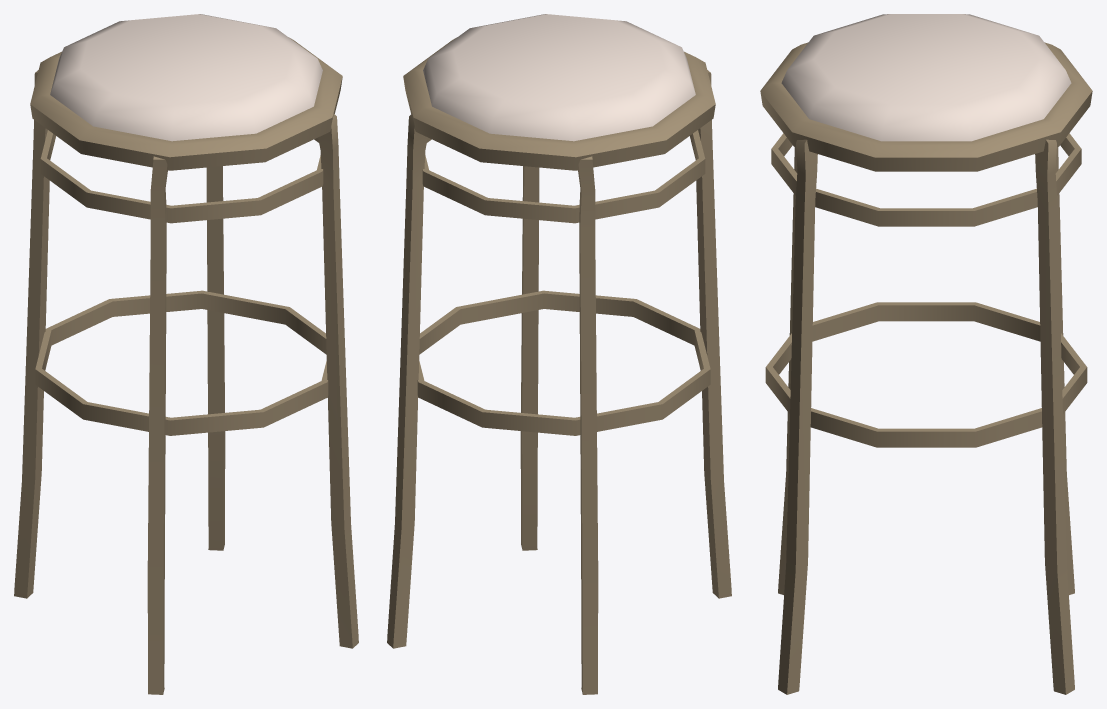
The model's file is stool.glb.
3 renders of one model, left to right at view 1: azimuth 30°, elevation 25°; view 2: azimuth 150°, elevation 25°; view 3: azimuth 270°, elevation 25°, orthographic. The views are drawn at different scales.
Visible parts, largest first — view 1: Stool; view 2: Stool; view 3: Stool.
Boxes of the visible parts, <box> form: Stool: <box>14,14,358,694</box>; Stool: <box>387,14,731,694</box>; Stool: <box>760,14,1092,694</box>.
Bounding box in the file's own units: 0.6753 × 1.37 × 0.71.
